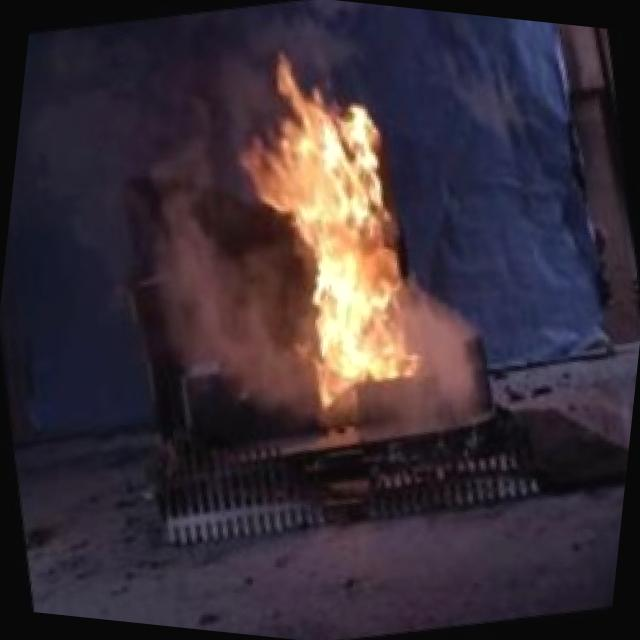fire: (178, 16, 479, 443)
